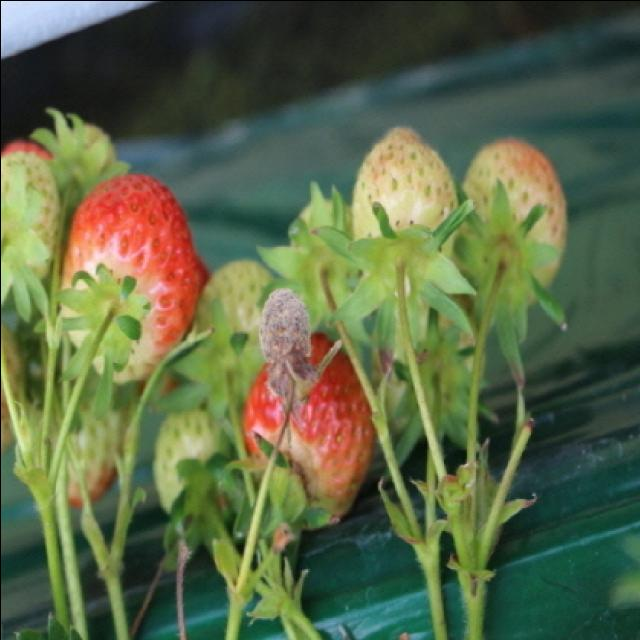Gray Mold: (258, 286, 342, 409)
